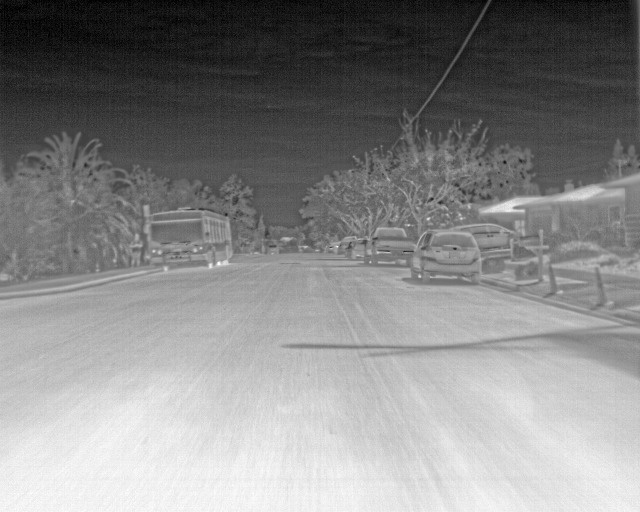vehicle: (144, 210, 234, 271), (413, 228, 482, 280), (454, 220, 519, 261), (366, 222, 415, 268)
